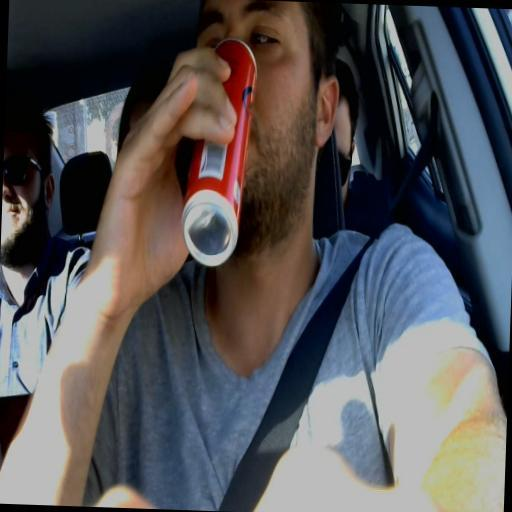Drinking: (164, 2, 340, 268)
